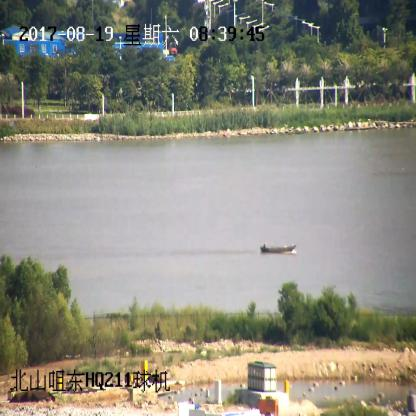Fishing Boat: (260, 241, 296, 254)
